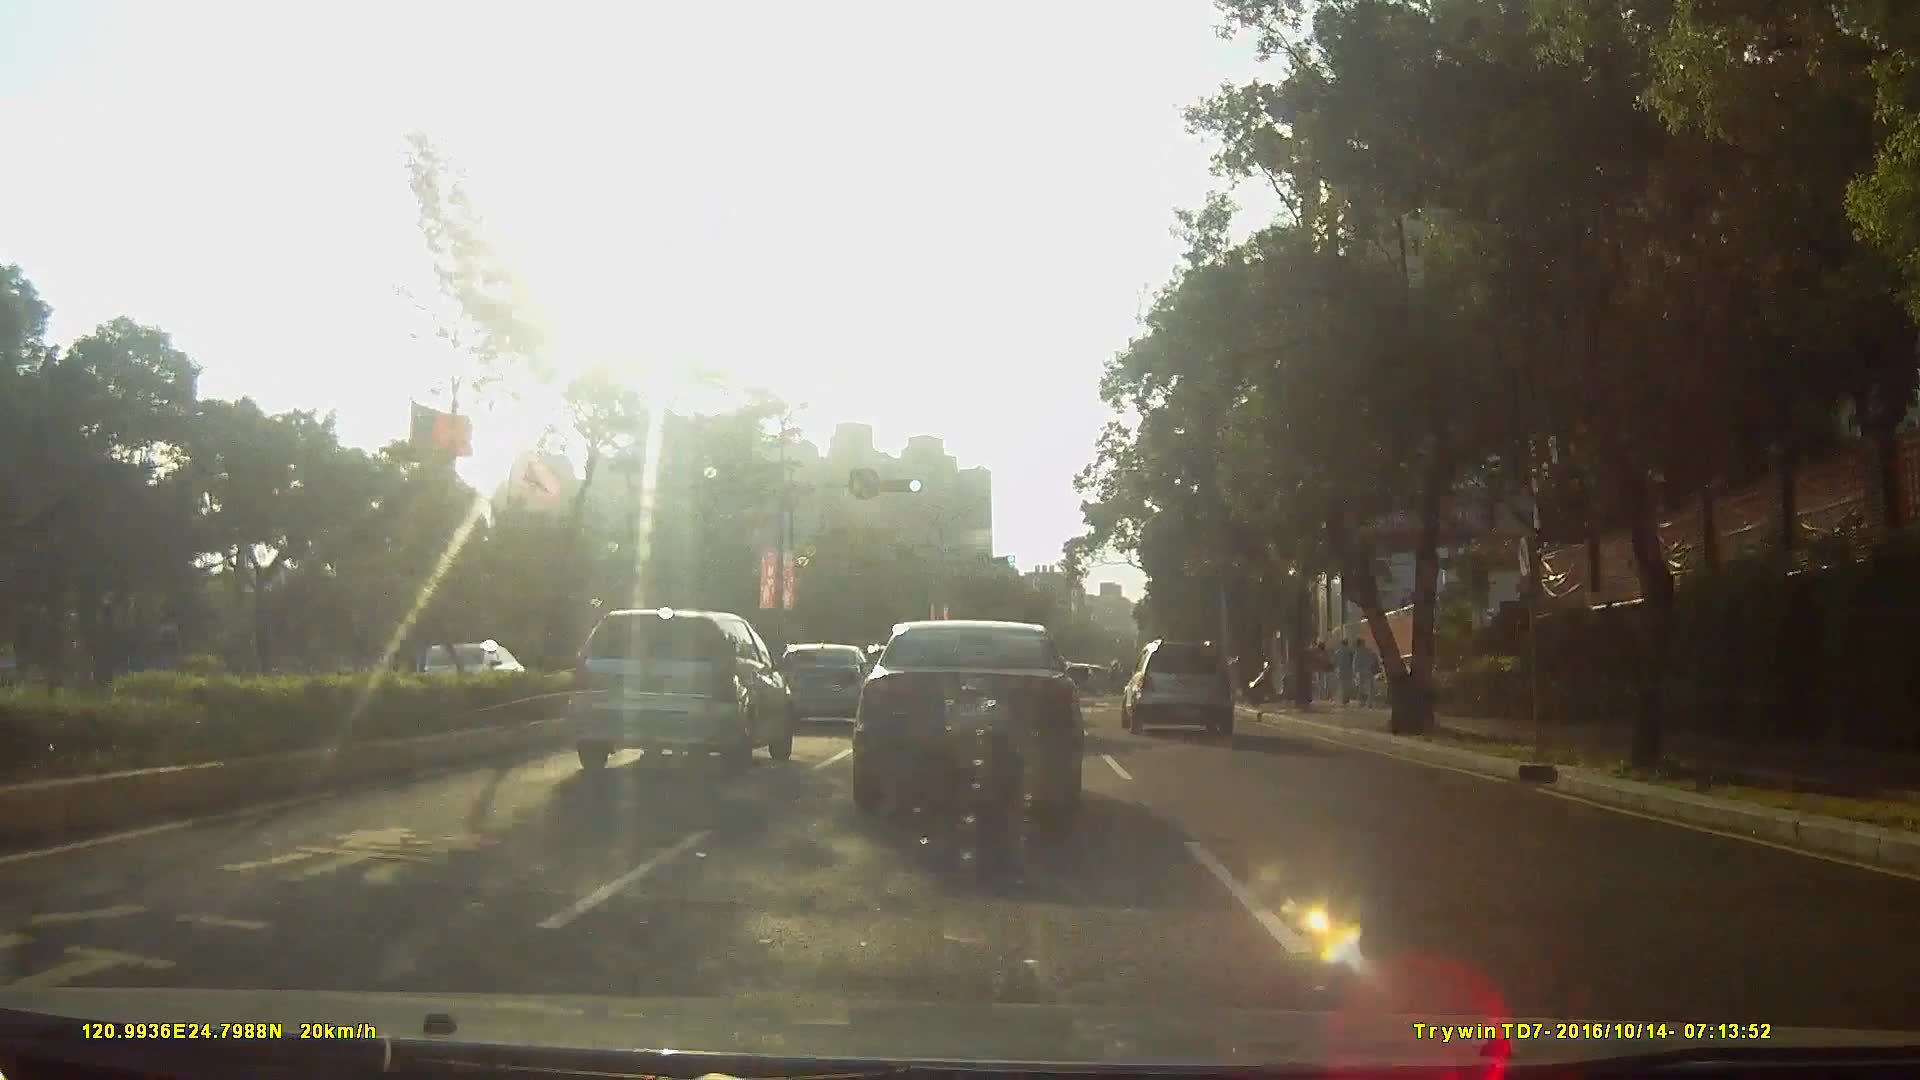pedestrian: (1351, 635, 1379, 712), (1335, 635, 1355, 711)
vehicle: (850, 614, 1084, 823), (564, 602, 793, 771), (1118, 635, 1248, 734), (400, 641, 543, 707), (777, 642, 873, 728)
